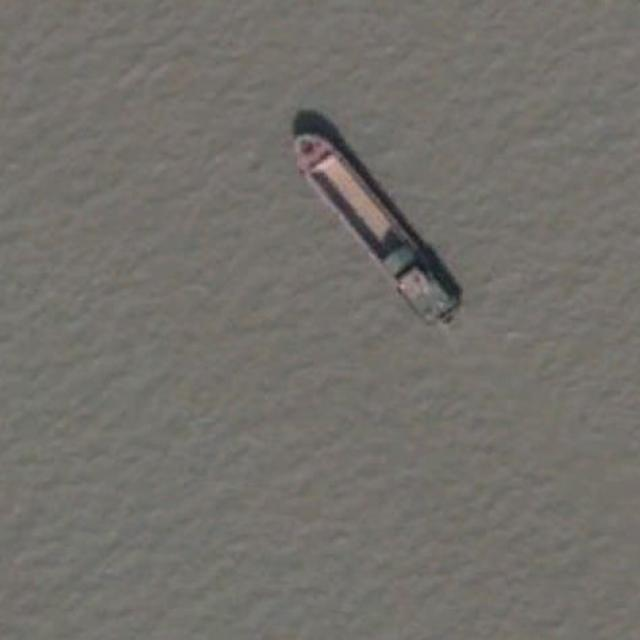boat: (290, 130, 463, 329)
